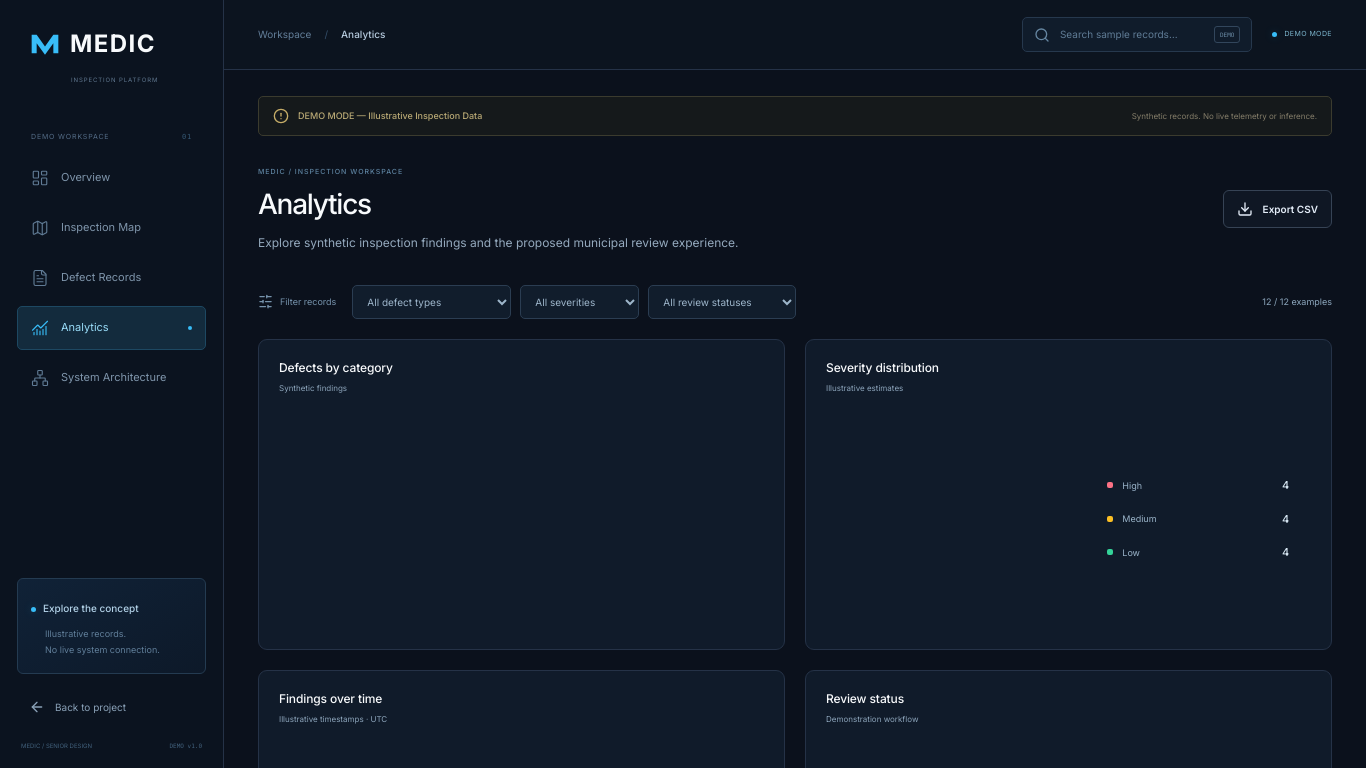
Test: all four analytics charts describe the shared data and empty filters are handled
The width and height of the screenshot is (1366, 768).
Expected: the heading "Defects by category" is shown, [279,360,393,375]
Expected: the heading "Severity distribution" is shown, [826,360,939,375]
Step 1. Type "no-finding" into the field named "Search sample records" → x=1132, y=34, box [1060,27,1204,42]
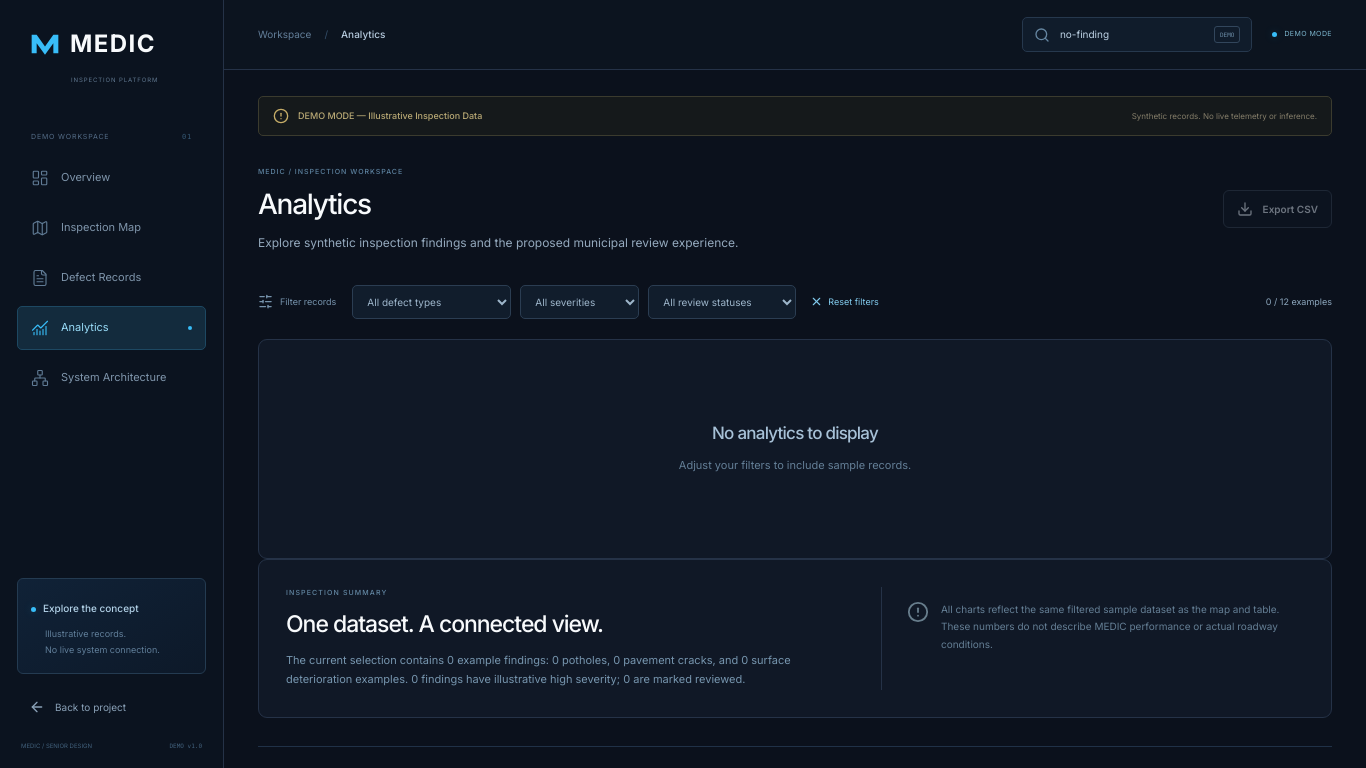
Now the heading "No analytics to display" is shown, box [712,422,878,444]
